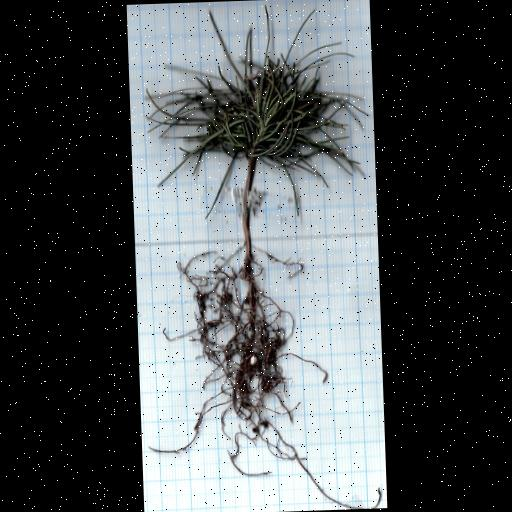flowerCedr: (146, 8, 353, 183)
rootCedr: (149, 249, 331, 500)
stemCedr: (241, 155, 255, 257)
